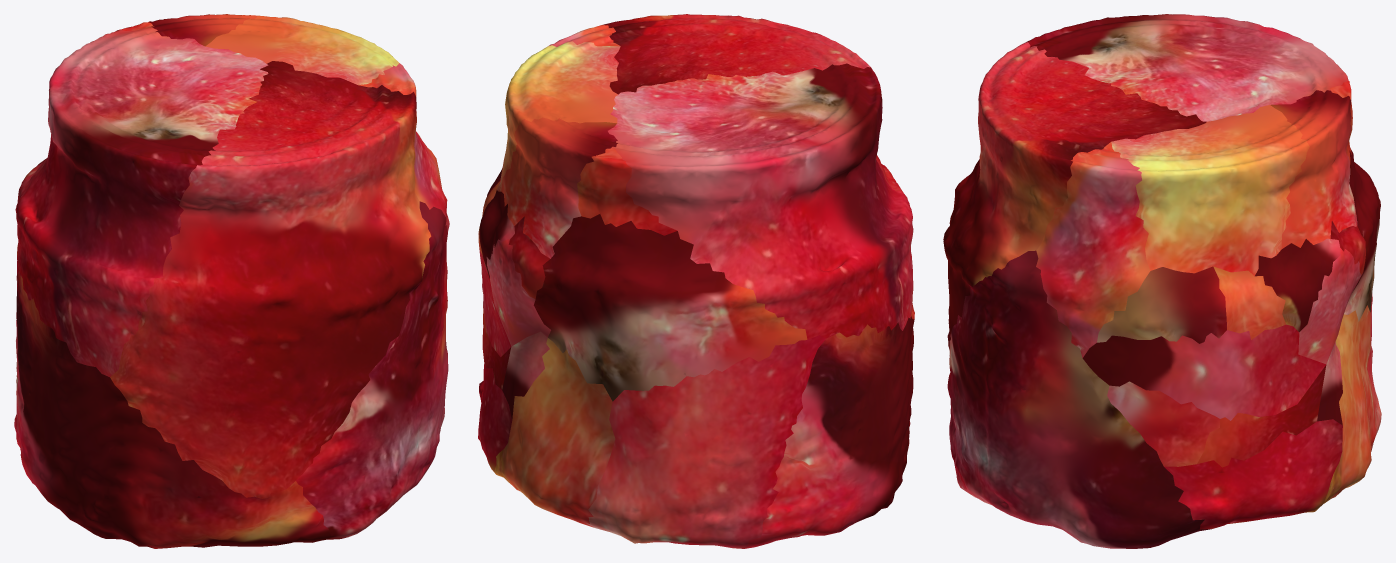
The model's file is 3DModel.obj.
The picture shows the model from 3 angles, left to right: view 1: azimuth 30°, elevation 25°; view 2: azimuth 150°, elevation 25°; view 3: azimuth 270°, elevation 25°; orthographic projection.
Parts seen in each view (by area): view 1: 3DModel; view 2: 3DModel; view 3: 3DModel.
Part boxes in pixels (x1=…): 3DModel: x1=14, y1=14, x2=449, y2=548; 3DModel: x1=478, y1=14, x2=914, y2=548; 3DModel: x1=943, y1=14, x2=1381, y2=548.
Size of the model in its own units: 0.1004 by 0.1006 by 0.0998.
